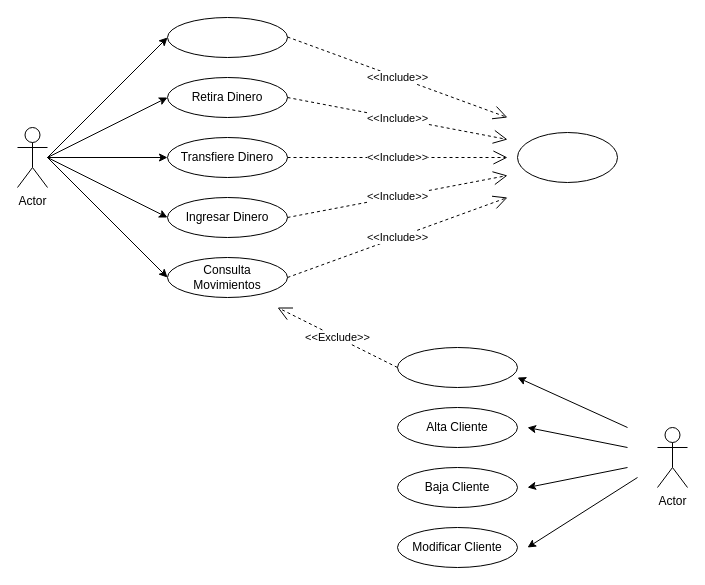
Some shapes in this 705 by 585 pixel diagram are drawn without their labels. Each missing label, with the centre of its shape:
Consulta Cliente: point 457,367
Consulta Saldo: point 227,37
Iniciar Sesión: point 567,157
